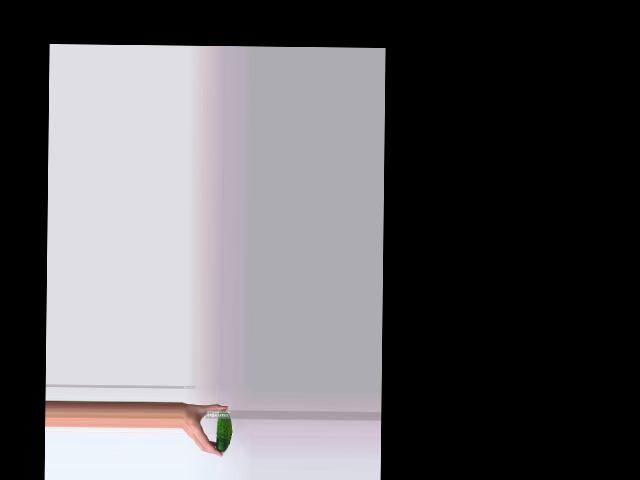cucumber: (216, 409, 233, 452)
